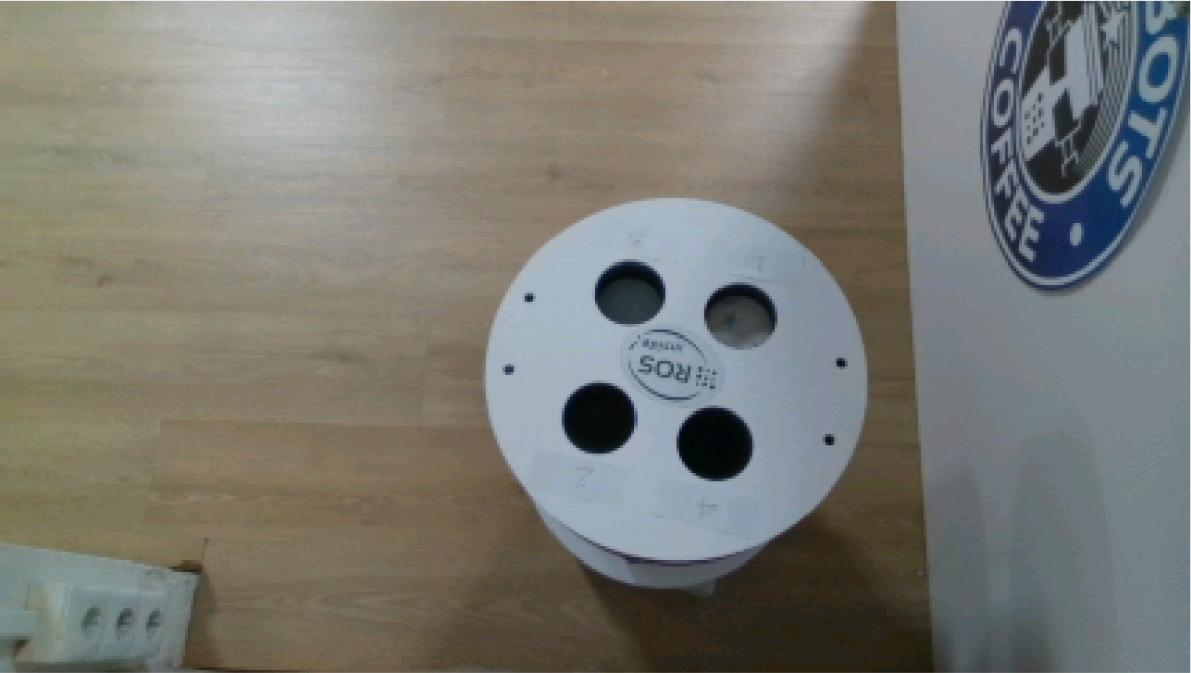hole: (560, 379, 641, 459), (676, 404, 757, 482), (703, 280, 781, 351), (593, 257, 669, 329)
